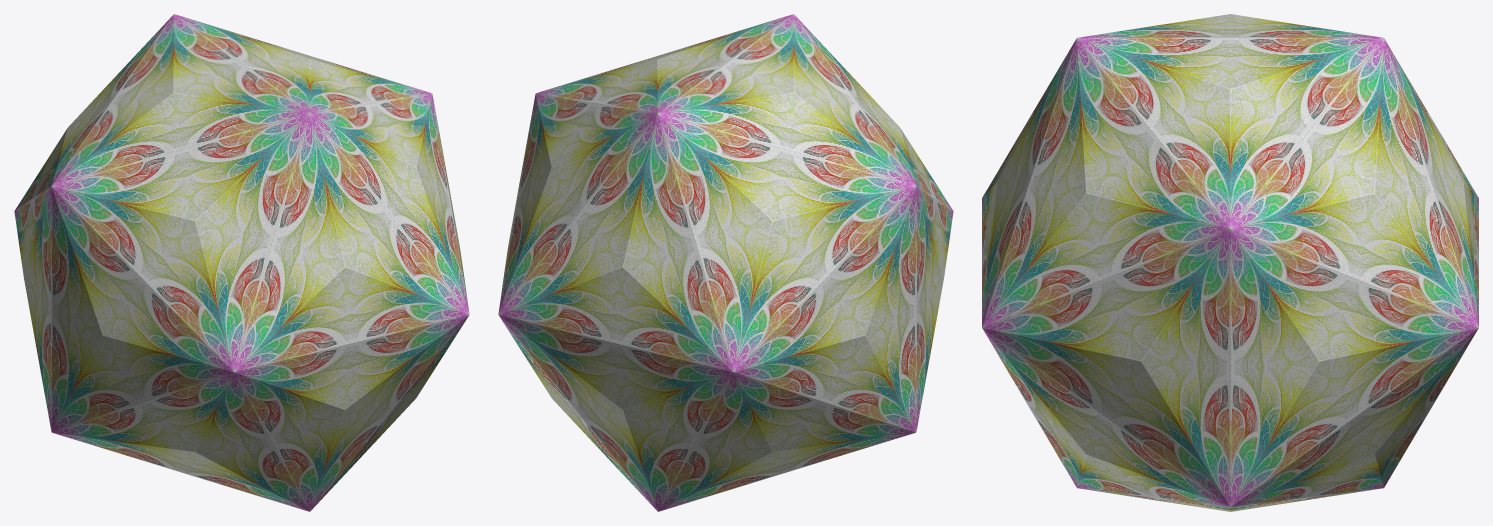
File: TriakisIcosahedron5.obj
The picture shows the model from 3 angles, left to right: view 1: azimuth 30°, elevation 25°; view 2: azimuth 150°, elevation 25°; view 3: azimuth 270°, elevation 25°; orthographic projection. The views are drawn at different scales.
Bounding box in the file's own units: 5.85 × 5.85 × 5.85.
Materials: 1 (1 with a texture image).
